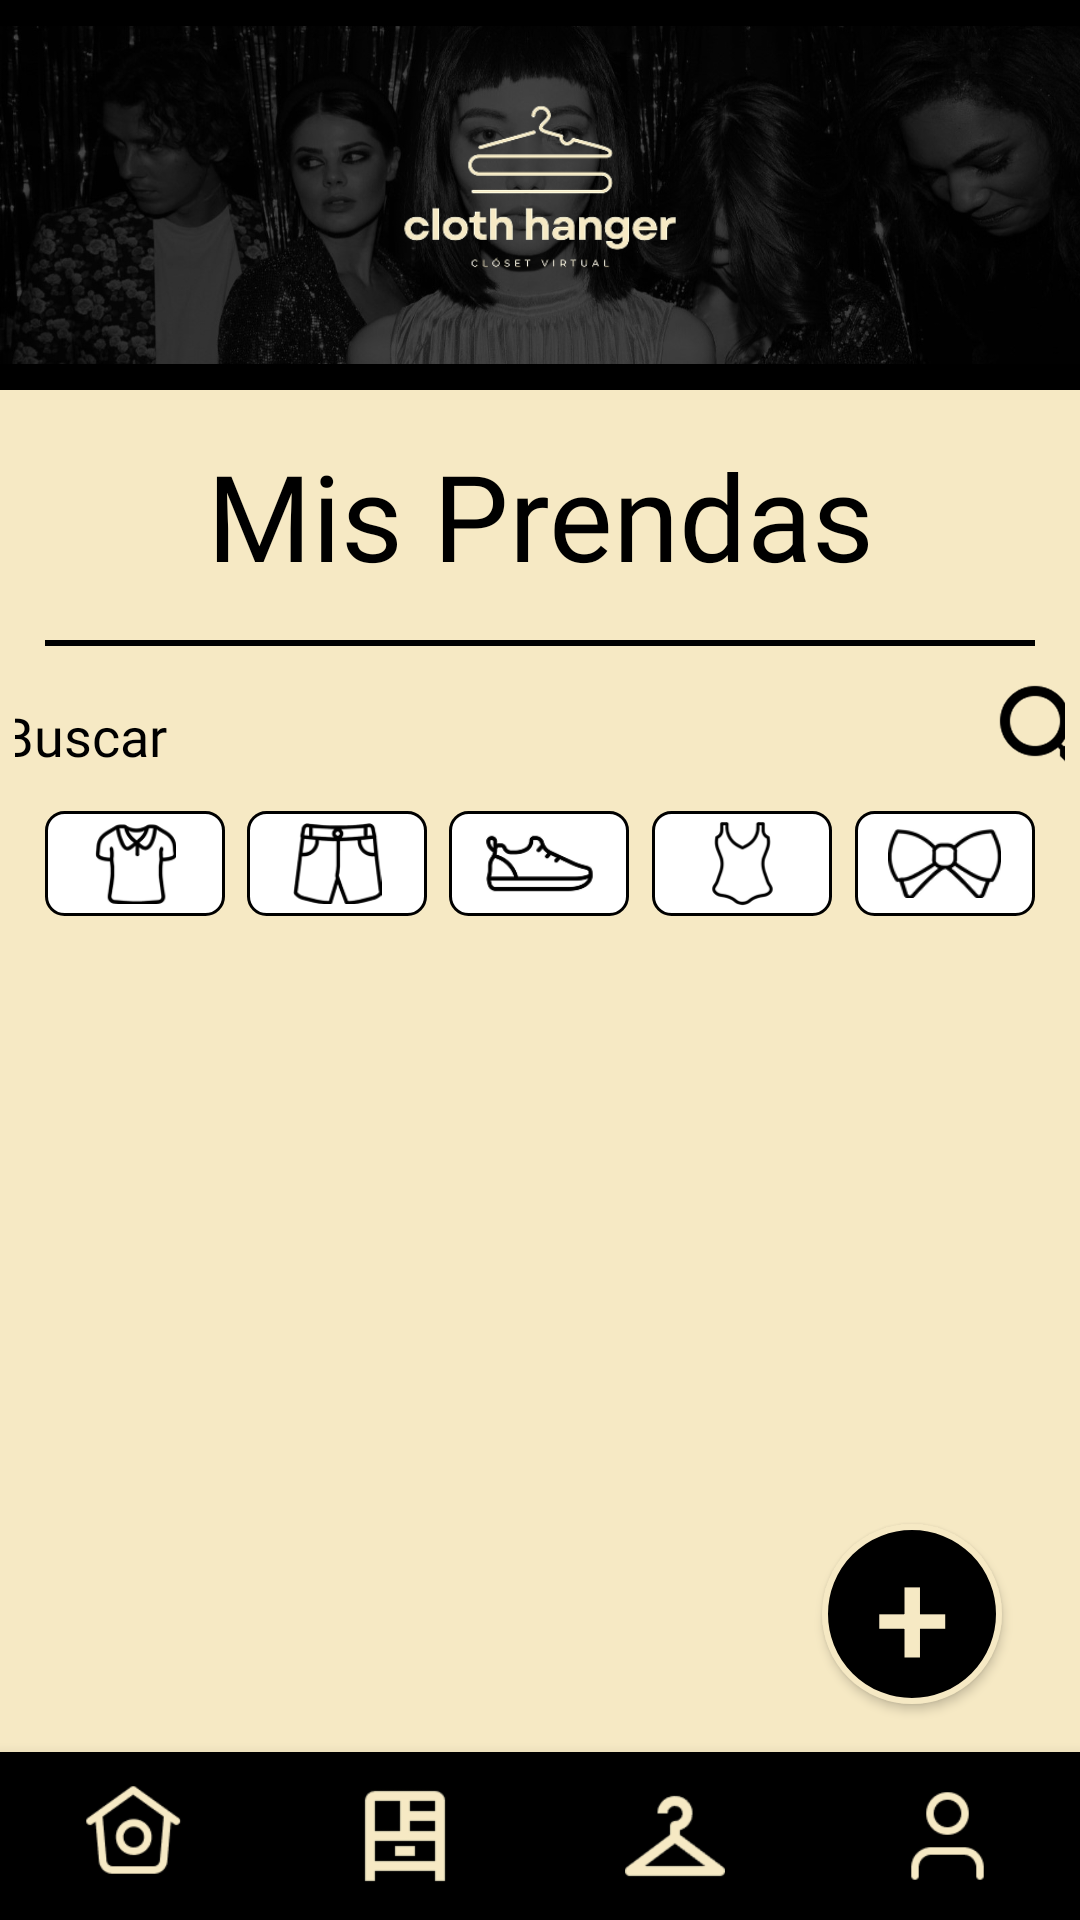

Point at icon controls on the screen. Image size 1080px×1920px, points as (x=x, y=y).
accesorios negro: (x=945, y=863)
bodysuits negro: (x=742, y=863)
bottoms negro: (x=337, y=863)
tops negro: (x=135, y=863)
zapatos negro: (x=539, y=863)
